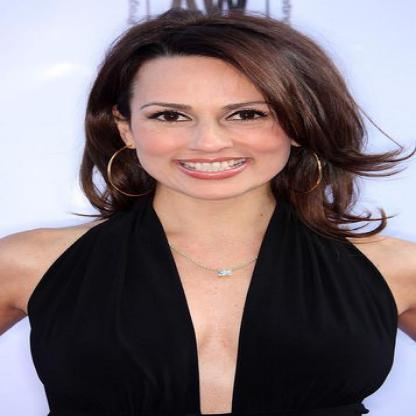long-hair: (49, 192, 389, 224)
